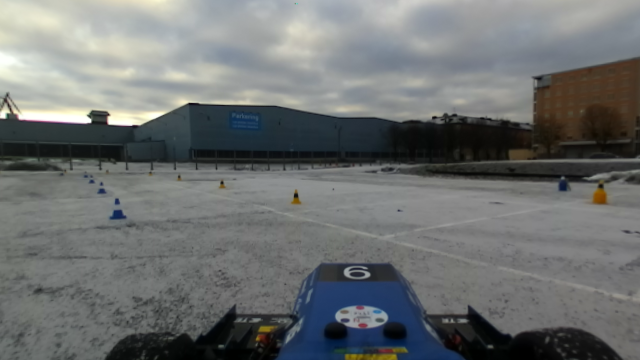blue: (108, 197, 125, 220)
yellow: (290, 188, 302, 208)
